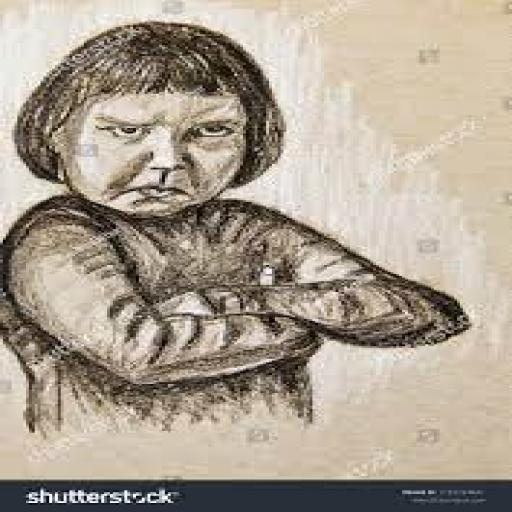person: (7, 20, 474, 449)
